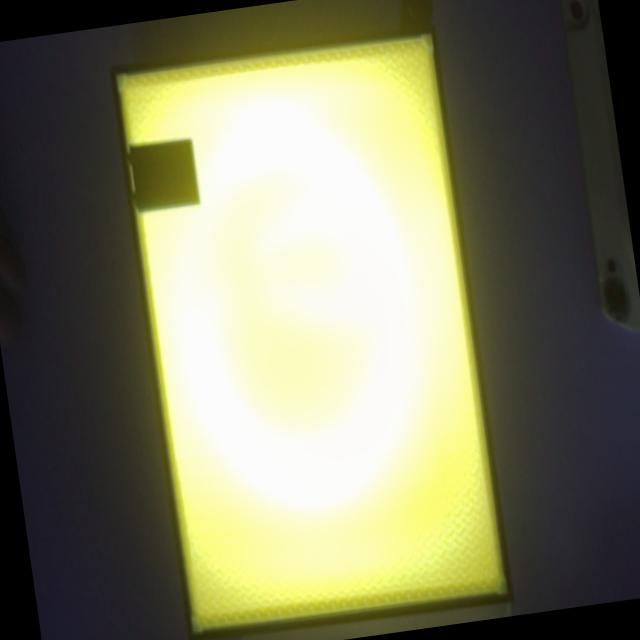bateria: (126, 137, 201, 214)
mesa: (110, 22, 515, 640)
